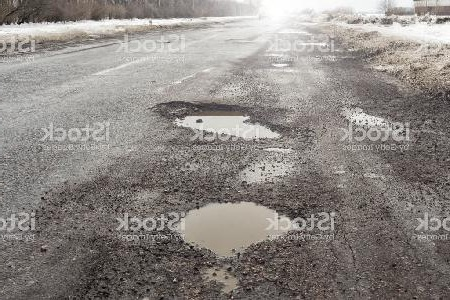pothole: (168, 197, 297, 257), (155, 98, 295, 142)
